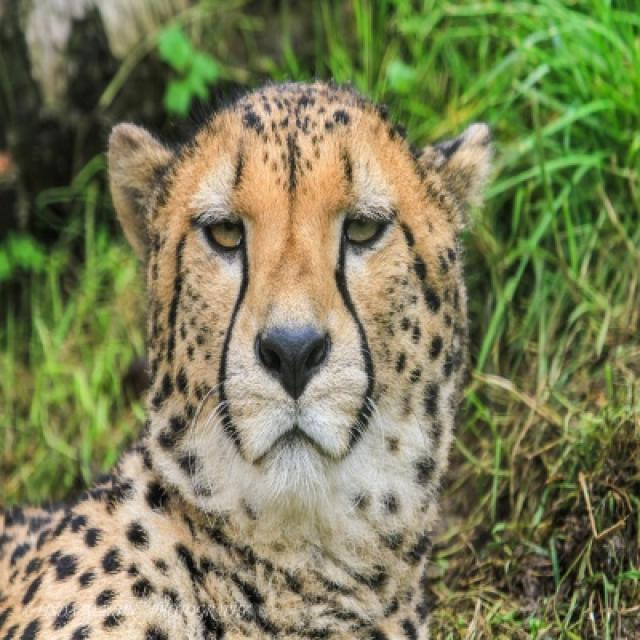Cheetah: (0, 82, 490, 638)
